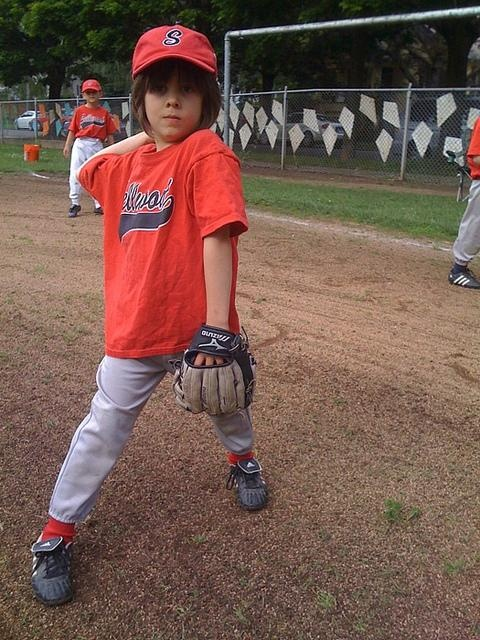person: (18, 22, 266, 606), (59, 79, 126, 221)
